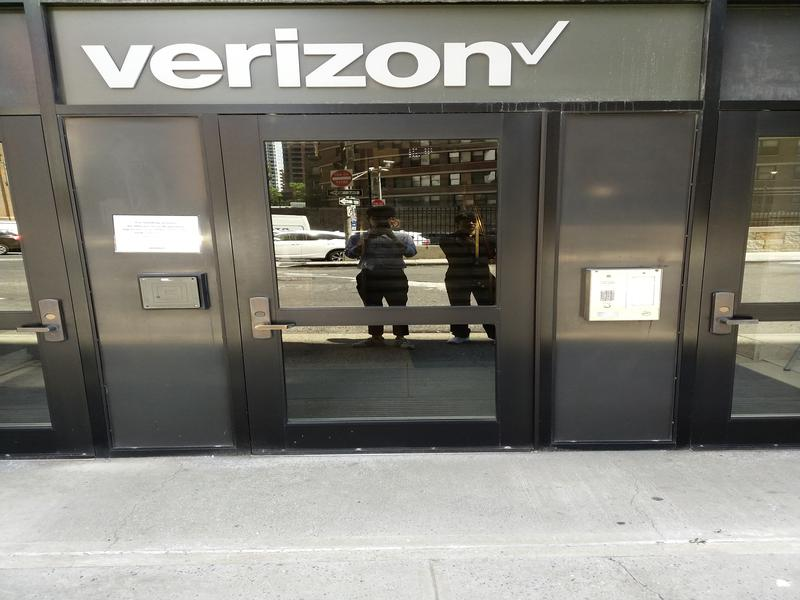door: (218, 98, 551, 451), (698, 96, 800, 447), (1, 115, 94, 454)
